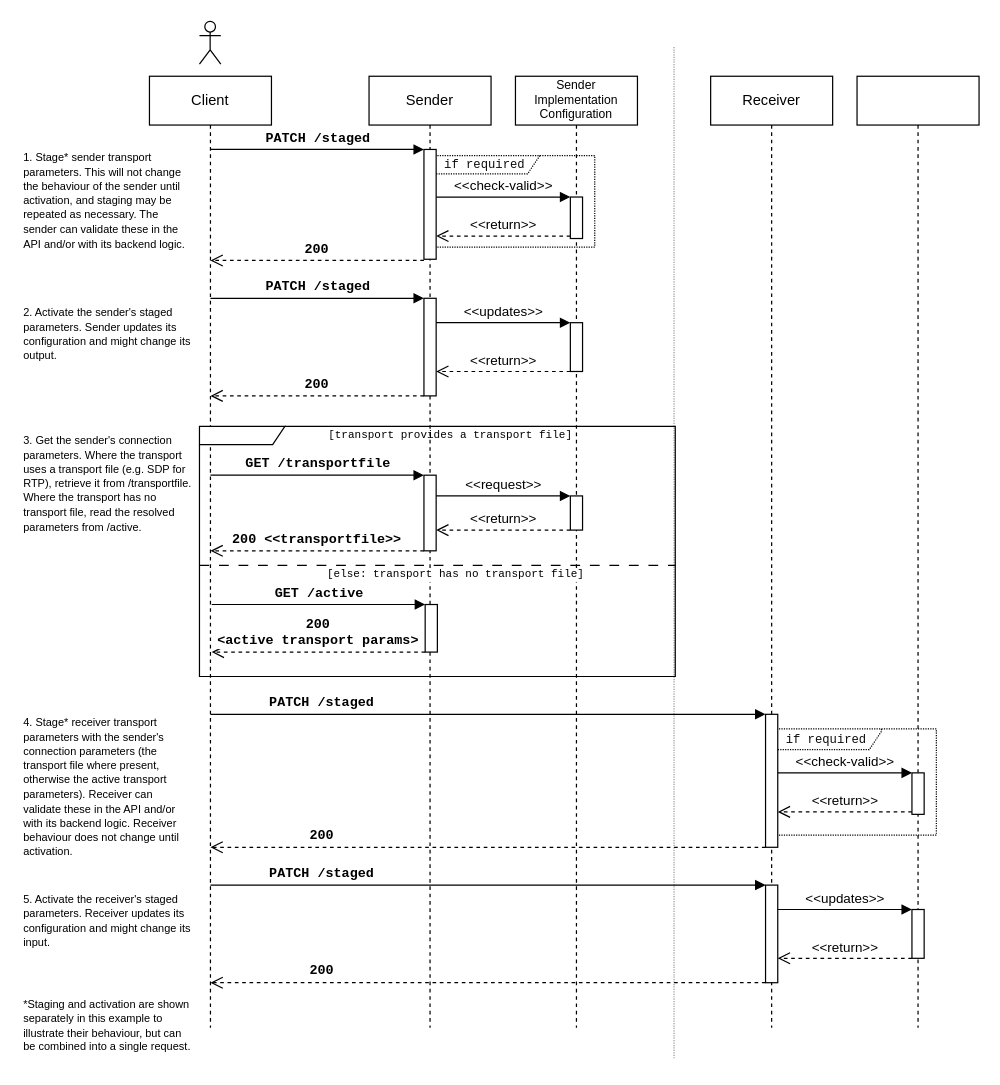
Image size: 1000x1085. Some labels were removed from this diagram. The box of each missing label's shape, as (x1, y1, x2, y2) in pixels:
alt: (198, 425, 675, 676)
Receiver Implementation Configuration: (856, 75, 979, 1028)
